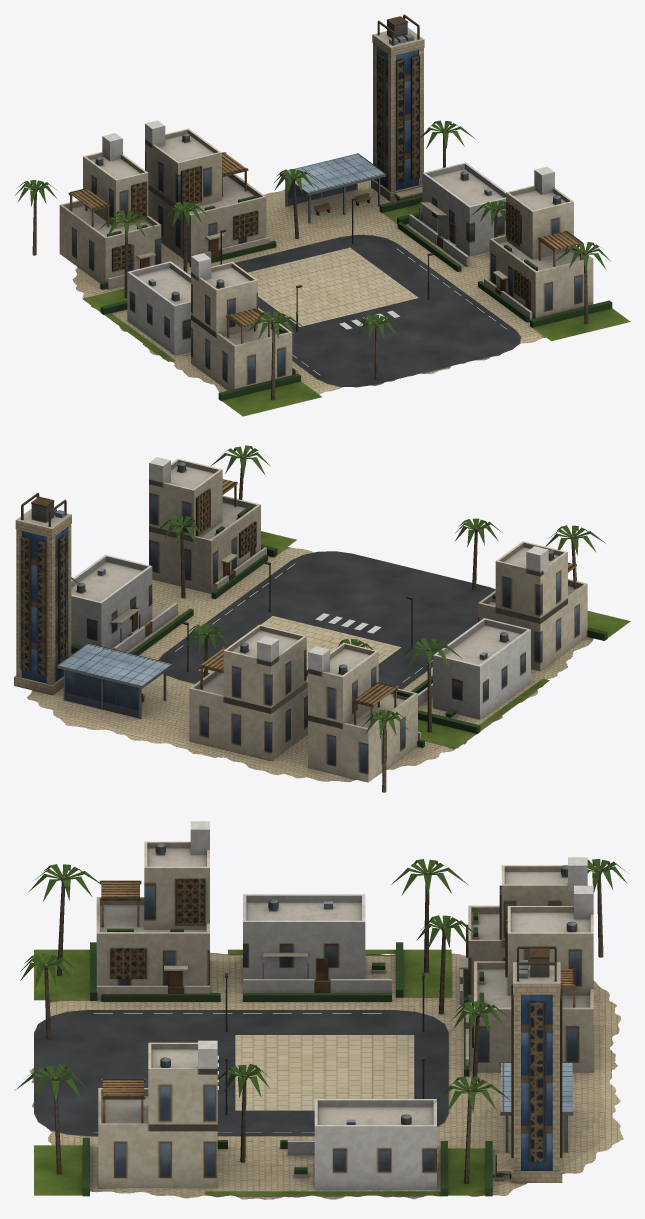
The model's file is modern-town-small-b-levant.glb.
3 views of the same model, one above another, from view 1: azimuth 30°, elevation 25°; view 2: azimuth 150°, elevation 25°; view 3: azimuth 270°, elevation 25° (orthographic). The views are drawn at different scales.
Parts seen in each view (by area): view 1: LOD0; view 2: LOD0; view 3: LOD0.
Part boxes in pixels (x1,y1,x2,y2): LOD0: [15, 14, 630, 416]; LOD0: [14, 445, 630, 792]; LOD0: [14, 821, 628, 1199].
Size of what is drawn, in the model's own units: 4.07 by 1.65 by 4.14.
Materials: 2 (2 with a texture image).
